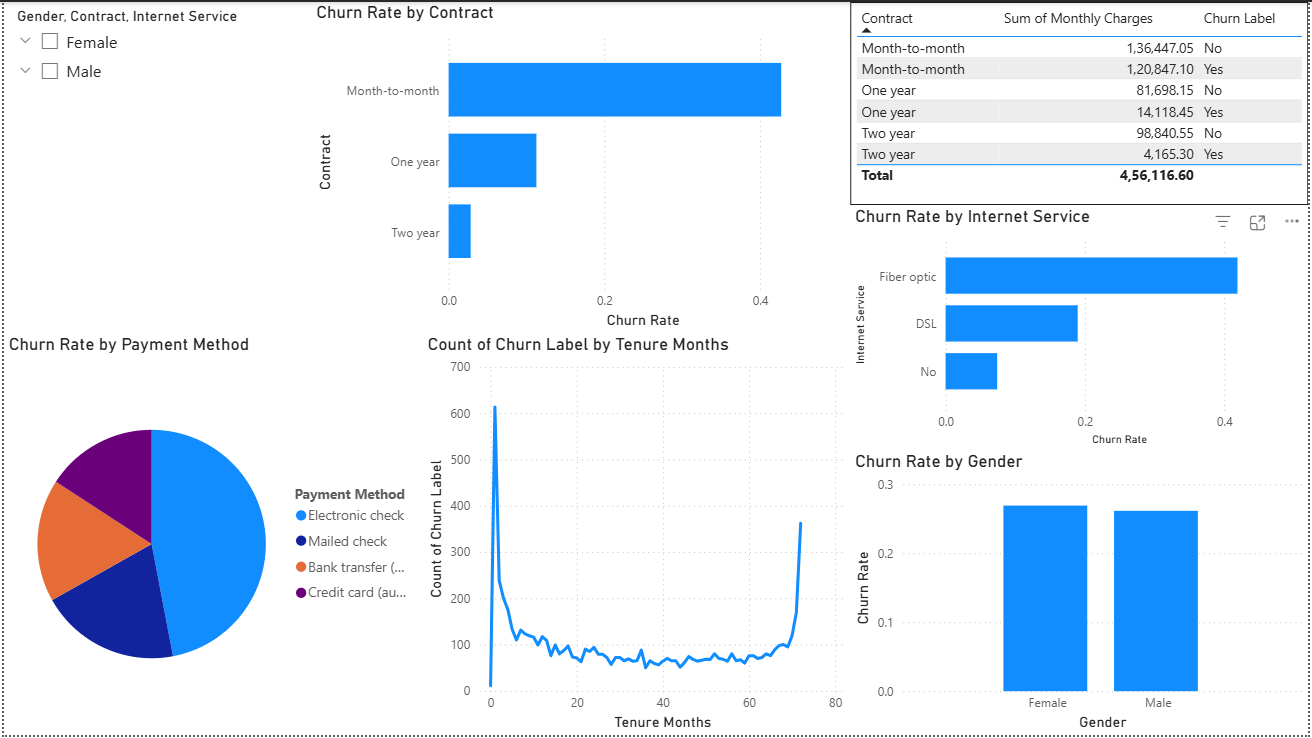

The dashboard page shown, as its layout file describes it:
{"tool":"powerbi","page":{"name":"dashboard overview","canvas":[1280,720],"ordinal":0},"visuals":[{"type":"barChart","fields":{"Category":["Telco_Churn.Contract"],"Y":["Telco_Churn.Churn Rate"]},"box":[301.2,0,530,325],"z":0},{"type":"pieChart","fields":{"Category":["Telco_Churn.Payment Method"],"Y":["Telco_Churn.Churn Rate"]},"box":[0,325,411.2,395],"z":1000},{"type":"barChart","fields":{"Category":["Telco_Churn.Internet Service"],"Y":["Telco_Churn.Churn Rate"]},"box":[831.2,200,448.8,240],"z":2000},{"type":"columnChart","fields":{"Category":["Telco_Churn.Gender"],"Y":["Telco_Churn.Churn Rate"]},"box":[831.2,440,448.8,280],"z":3000},{"type":"lineChart","fields":{"Category":["Telco_Churn.Tenure Months"],"Y":["CountNonNull(Telco_Churn.Churn Label)"]},"box":[411.2,325,420,395],"z":4000},{"type":"tableEx","fields":{"Values":["Telco_Churn.Contract","Sum(Telco_Churn.Monthly Charges)","Telco_Churn.Churn Label"]},"box":[831.2,0,448.8,200],"z":5000},{"type":"actionButton","box":[0,0,100,40],"z":6000},{"type":"slicer","fields":{"Values":["Telco_Churn.Gender","Telco_Churn.Contract","Telco_Churn.Internet Service"]},"box":[0,0,301.8,325.2],"z":7000}]}

Visuals, with their boxes in screenshot pixels (x1, y1, x2, y2), scaled from the page's 1280x720 canvas onto the 1312x738 screenshot:
barChart - Telco_Churn.Contract x Telco_Churn.Churn Rate: <bbox>309, 0, 852, 333</bbox>
pieChart - Telco_Churn.Payment Method x Telco_Churn.Churn Rate: <bbox>0, 333, 421, 737</bbox>
barChart - Telco_Churn.Internet Service x Telco_Churn.Churn Rate: <bbox>852, 205, 1311, 451</bbox>
columnChart - Telco_Churn.Gender x Telco_Churn.Churn Rate: <bbox>852, 451, 1311, 737</bbox>
lineChart - Telco_Churn.Tenure Months x CountNonNull(Telco_Churn.Churn Label): <bbox>421, 333, 852, 737</bbox>
tableEx - Telco_Churn.Contract x Sum(Telco_Churn.Monthly Charges): <bbox>852, 0, 1311, 205</bbox>
actionButton: <bbox>0, 0, 102, 41</bbox>
slicer - Telco_Churn.Gender x Telco_Churn.Contract: <bbox>0, 0, 309, 333</bbox>
